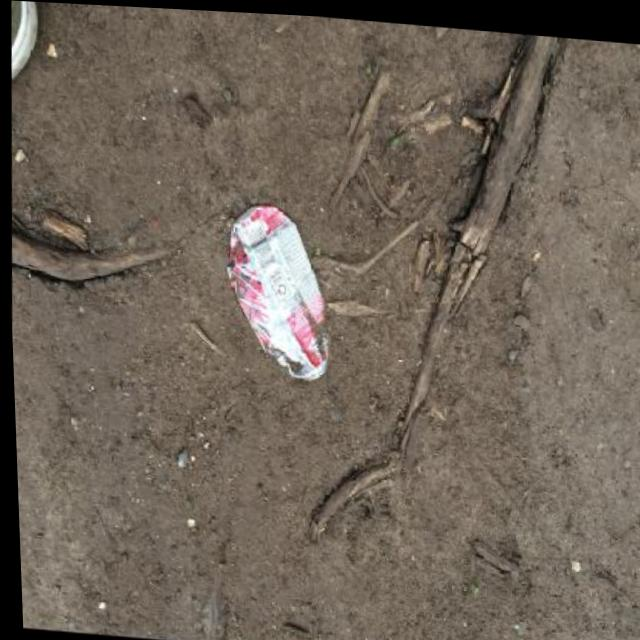metal: (219, 201, 334, 384)
